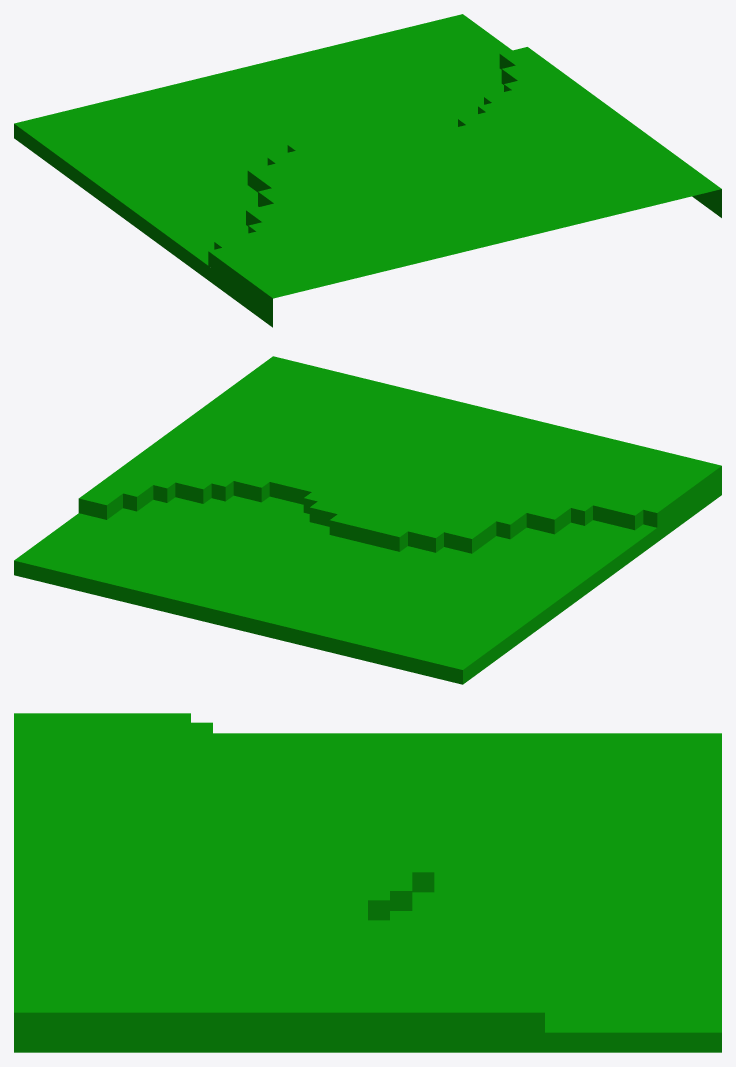
Rendered from Slant3.fbx.
3 views of the same model, one above another, from view 1: azimuth 30°, elevation 25°; view 2: azimuth 150°, elevation 25°; view 3: azimuth 270°, elevation 25° (orthographic). The views are drawn at different scales.
Parts seen in each view (by area): view 1: Matrix; view 2: Matrix; view 3: Matrix.
Part boxes in pixels (<box>): Matrix: <box>14,14,721,327</box>; Matrix: <box>14,356,721,684</box>; Matrix: <box>14,713,721,1052</box>.
Size of the model in its own units: 32 by 2 by 32.
1 material, 1 textured.
